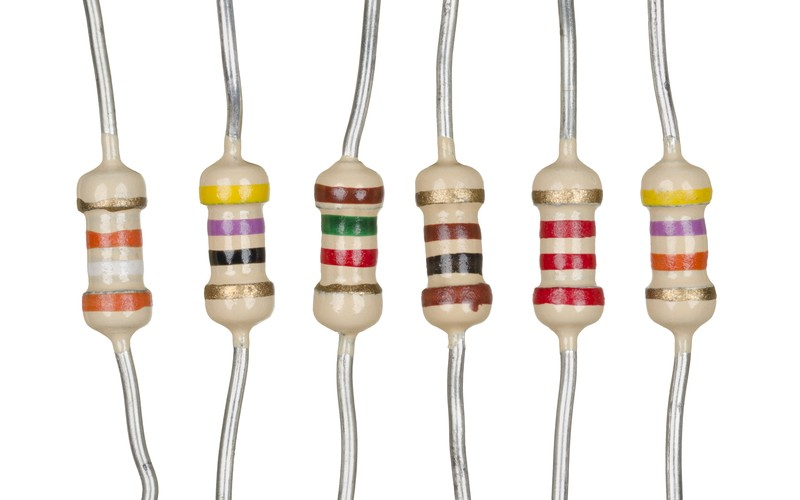Resistor: (19, 58, 174, 383), (190, 78, 292, 407), (275, 120, 396, 354), (514, 118, 622, 355), (636, 119, 740, 358), (396, 124, 502, 358)
